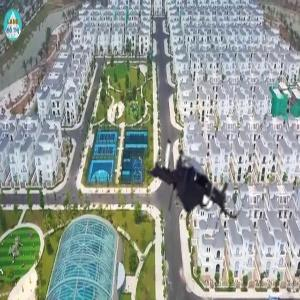drone: (129, 124, 253, 248)
